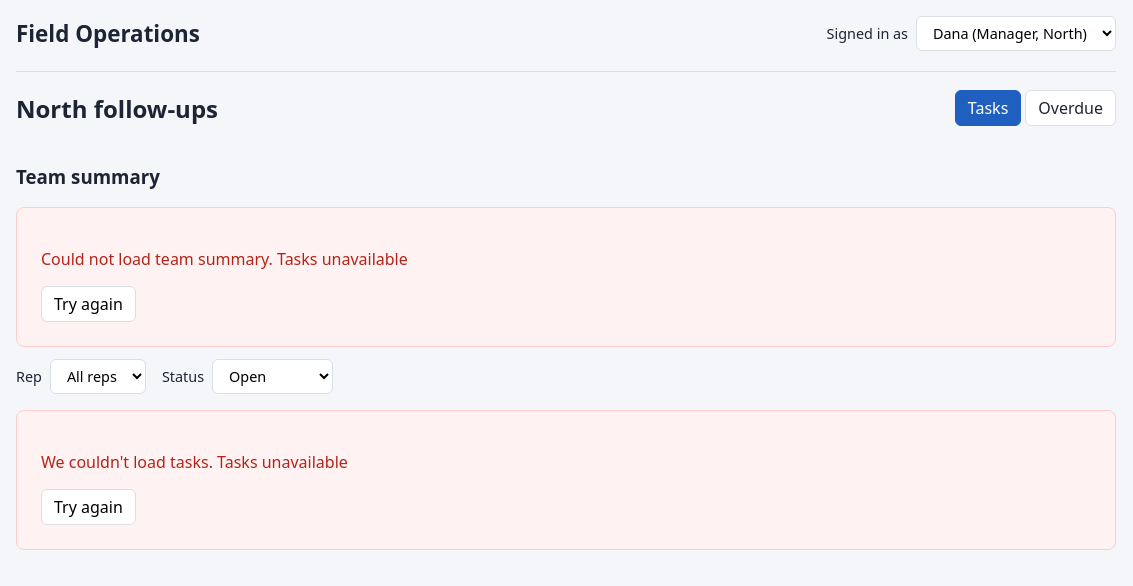
Scenario: Manager summary › shows and retries tasks API errors instead of displaying zero counts
This screenshot has width=1133, height=586.
Expected: the message "Could not load team summary. Tasks unavailable Try again" is shown, [16,207,1116,347]
Click the button "Try again" below "Could not load team summary." at (88, 304), box [41,286,136,322]
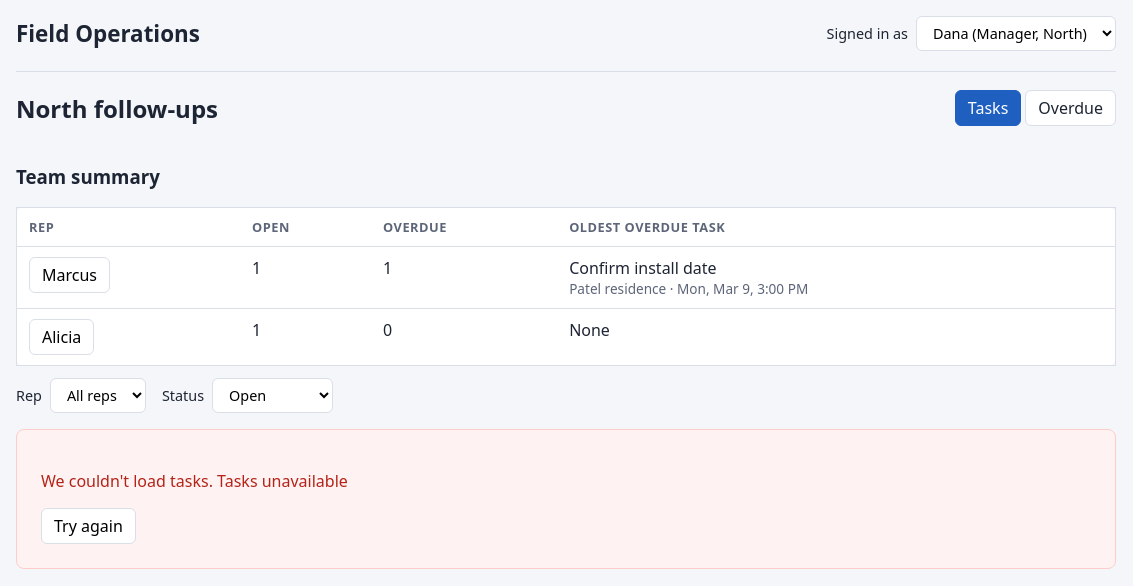
Expected: the table named "Tasks by rep" is shown, [16,207,1116,366]
Expected: the message "Could not load team summary. Tasks unavailable Try again" is gone
